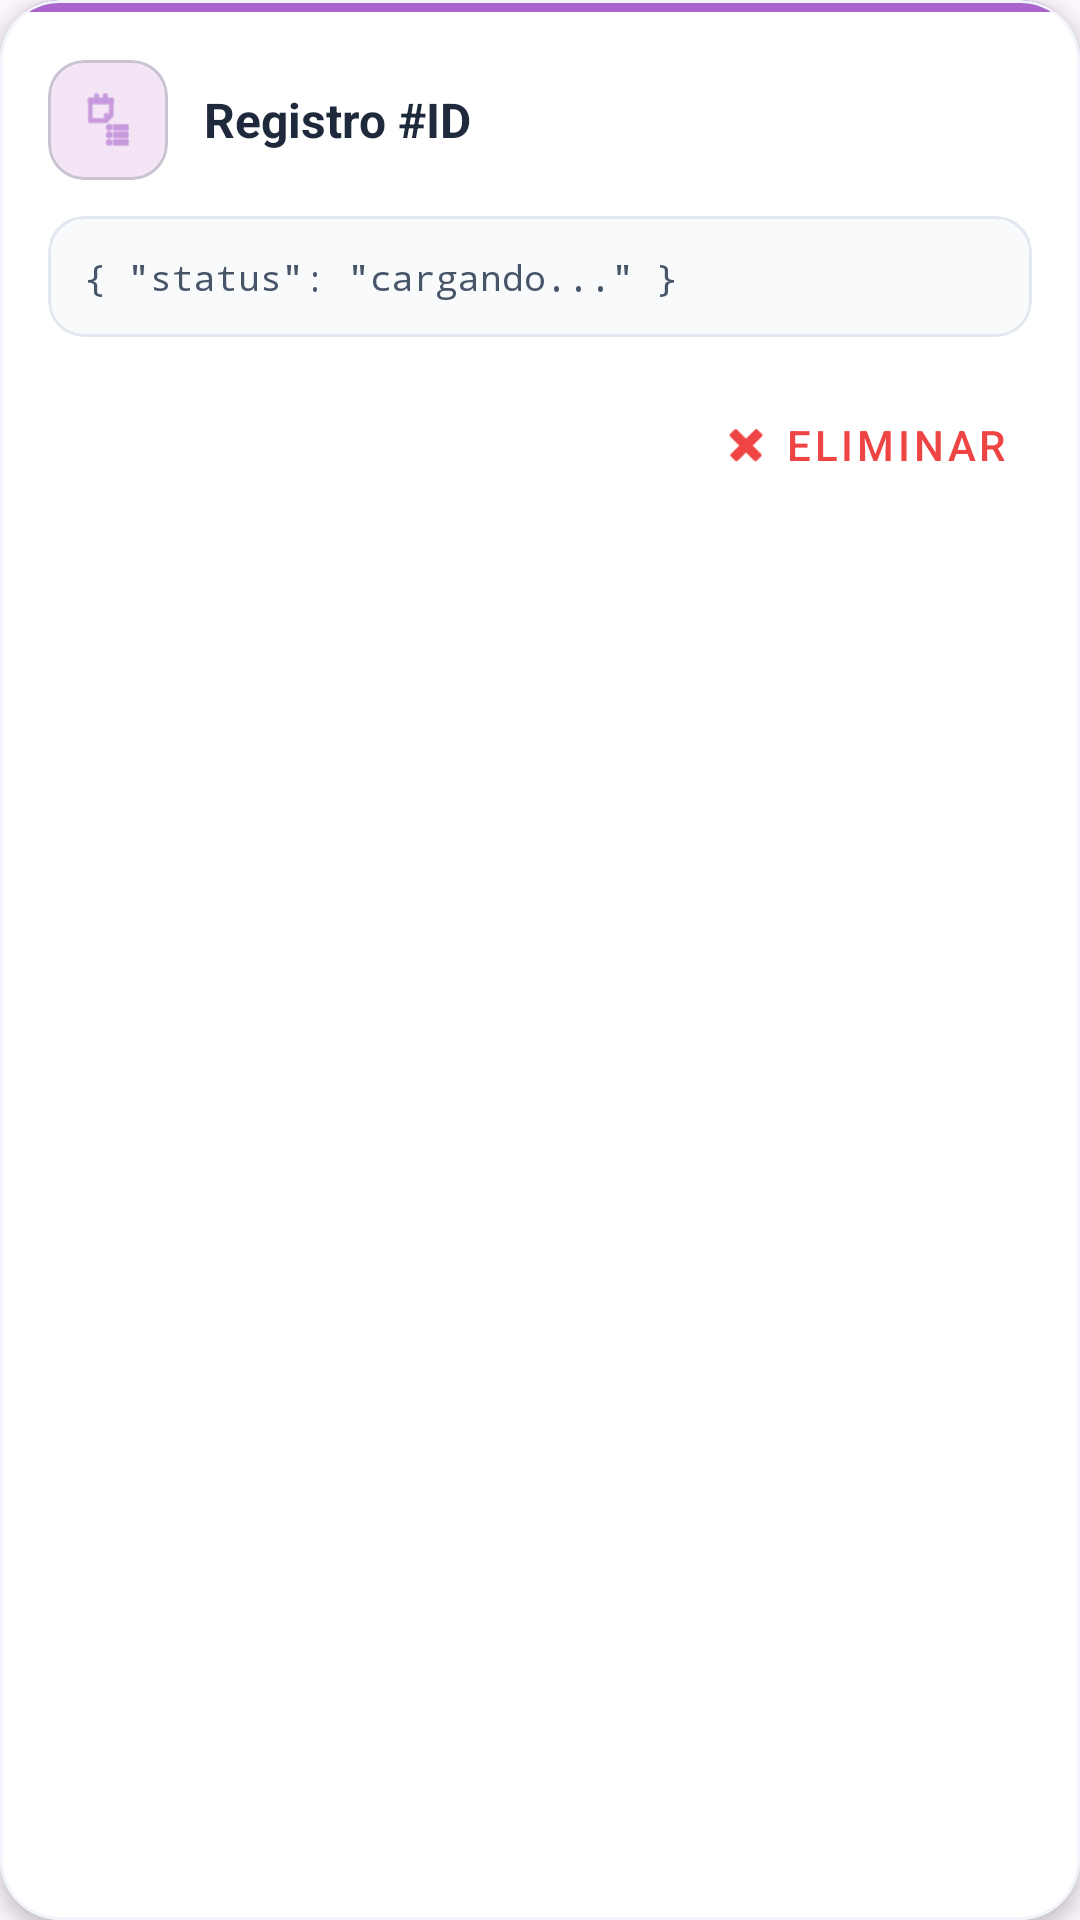

Icons on this 1080px×1920px Android screen, each with the point to tap as point (x, y):
agenda: point (108, 119)
